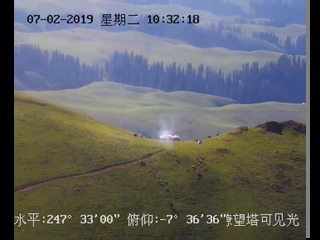smoke: (157, 119, 175, 142)
